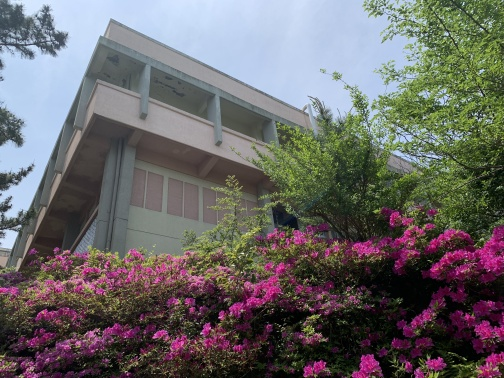College Of Education: (18, 13, 433, 279)
